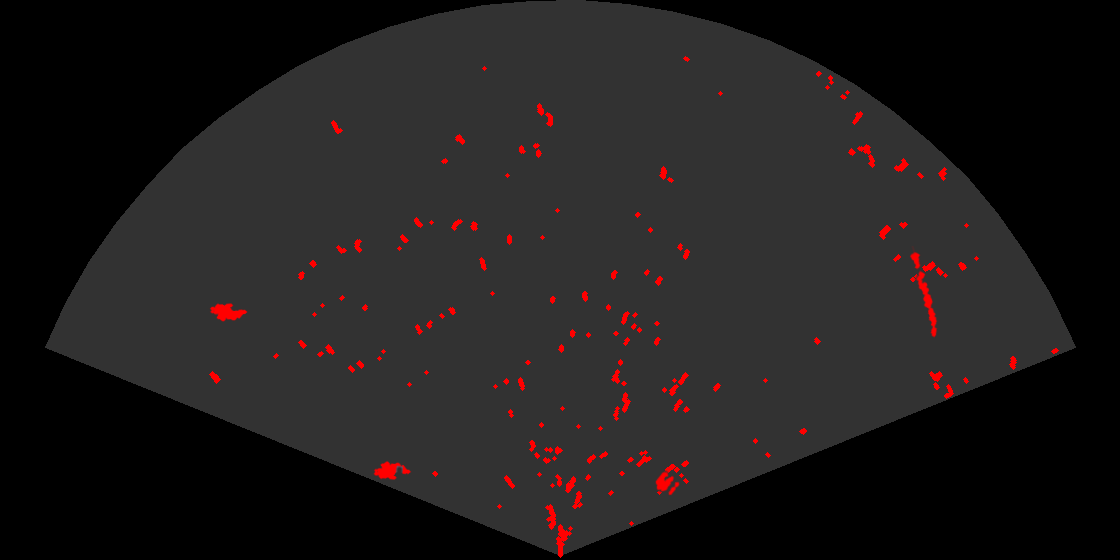AUV: (372, 459, 413, 481), (208, 302, 249, 323)
ball: (654, 470, 681, 497)
chain: (908, 246, 939, 339)
